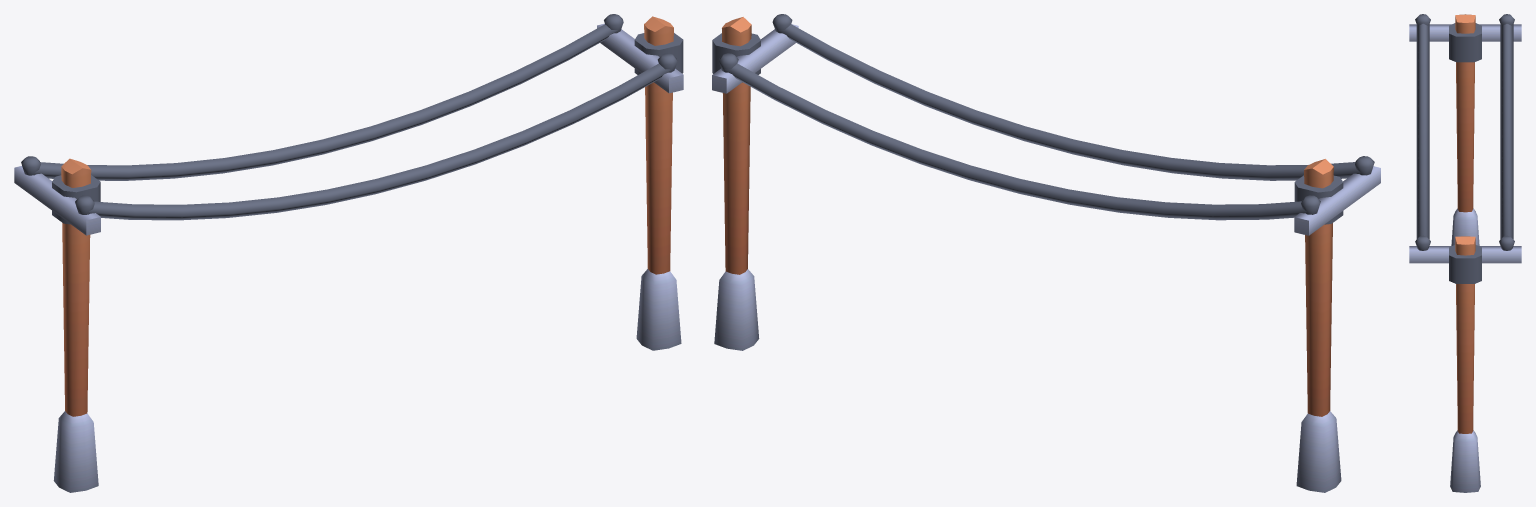
File: electricity-pole-wide.glb
3 views of the same model, side by side, from view 1: azimuth 30°, elevation 25°; view 2: azimuth 150°, elevation 25°; view 3: azimuth 270°, elevation 25° (orthographic). The views are drawn at different scales.
Parts seen in each view (by area): view 1: electricity-pole-wide; view 2: electricity-pole-wide; view 3: electricity-pole-wide.
Boxes of the visible parts, bbox=[...] form: electricity-pole-wide: bbox=[14, 14, 683, 492]; electricity-pole-wide: bbox=[712, 14, 1380, 492]; electricity-pole-wide: bbox=[1409, 14, 1521, 492].
Size of the model in its own units: 1.08 by 0.525 by 0.2142.
1 material, 1 textured.
